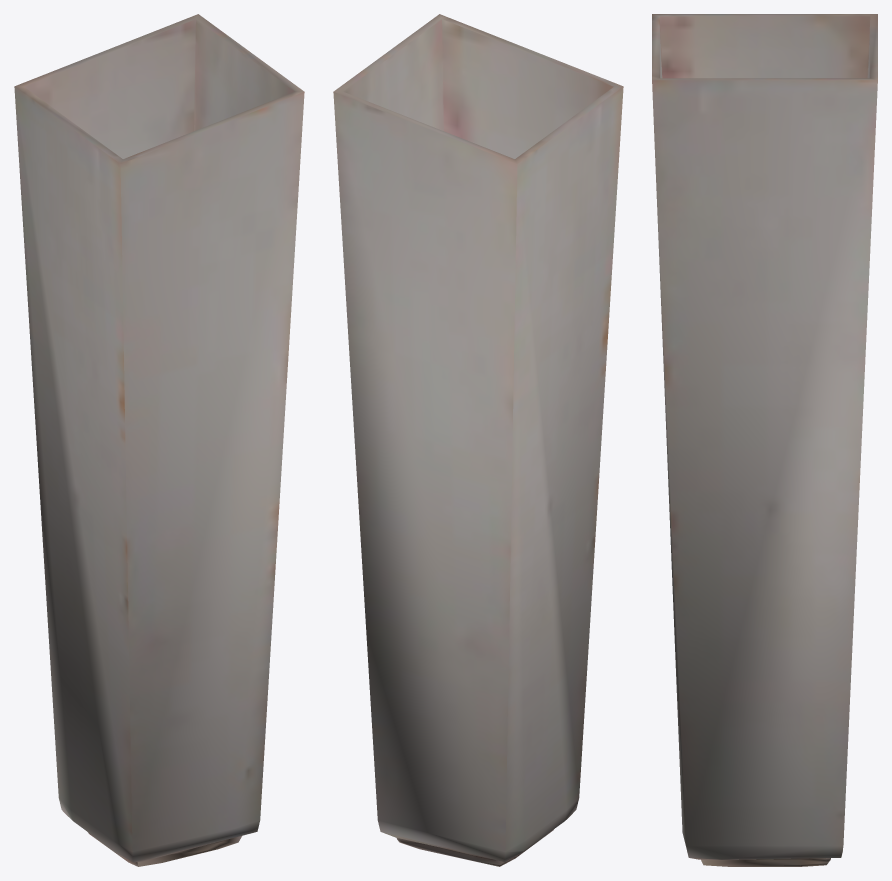
File: vase_c.glb
3 views of the same model, side by side, from view 1: azimuth 30°, elevation 25°; view 2: azimuth 150°, elevation 25°; view 3: azimuth 270°, elevation 25° (orthographic). The views are drawn at different scales.
Visible parts, largest first — view 1: vase_c; view 2: vase_c; view 3: vase_c.
Boxes of the visible parts, box(x1,y1,x2,y2) form: vase_c: box(14, 14, 304, 866); vase_c: box(333, 14, 623, 866); vase_c: box(652, 14, 877, 866).
Size of the model in its own units: 0.1051 by 0.414 by 0.105.
1 material, 1 textured.
